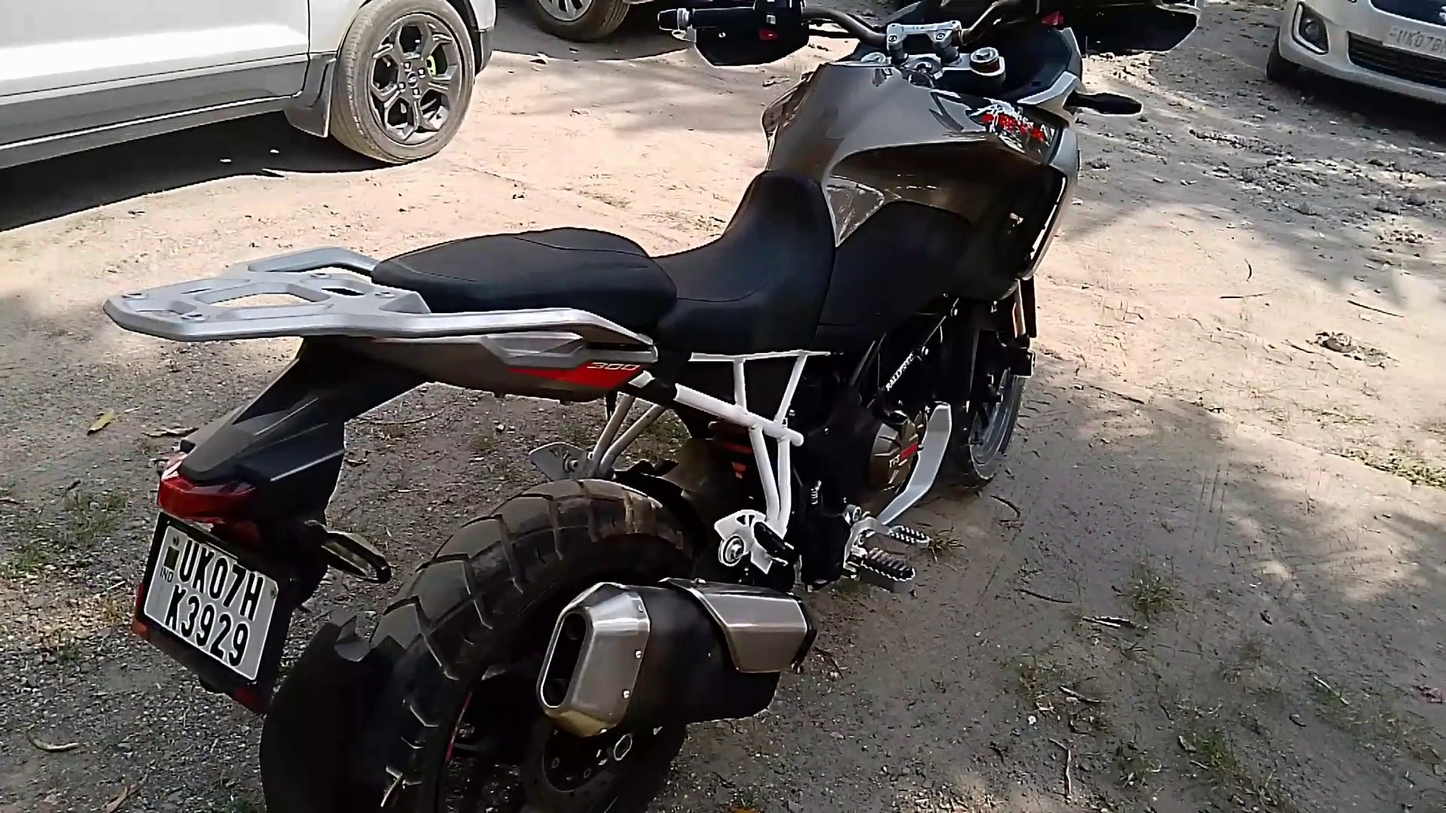engine: (857, 382, 941, 518)
